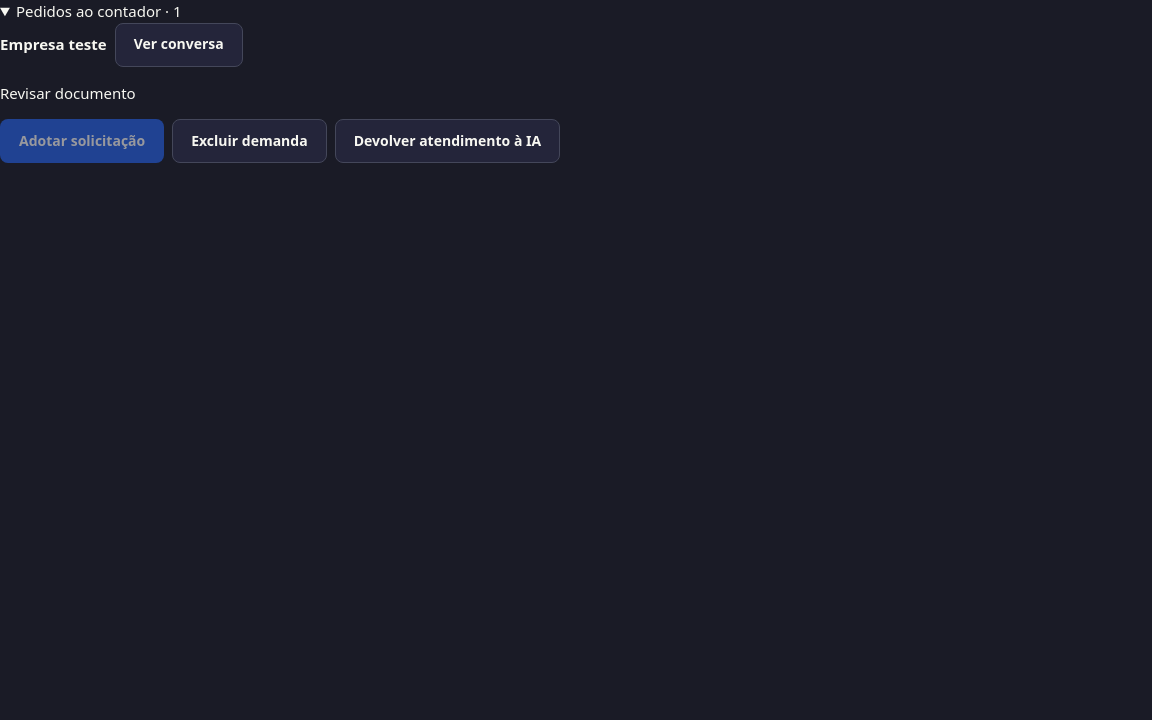
Test: falha na exclusão mantém confirmação e demanda para conferência
The width and height of the screenshot is (1152, 720).
Click the button "Excluir demanda" at (249, 141), box [172,119,327,163]
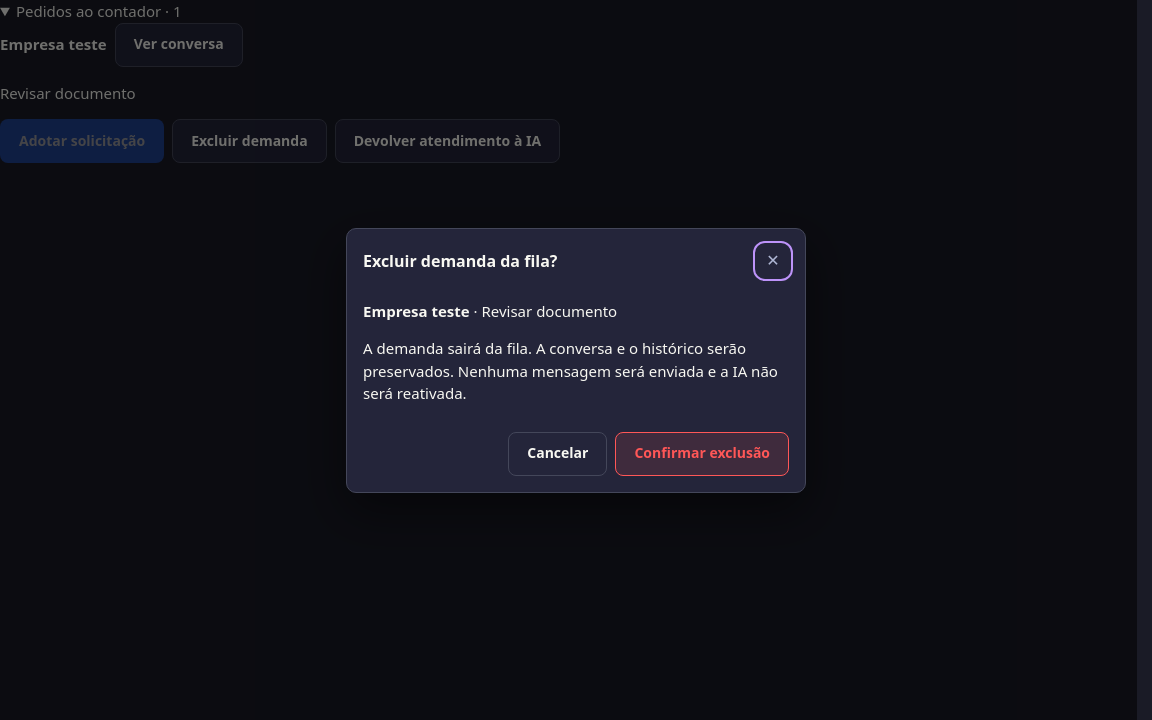
Click the button "Confirmar exclusão" at (702, 454), box [615,432,789,476]
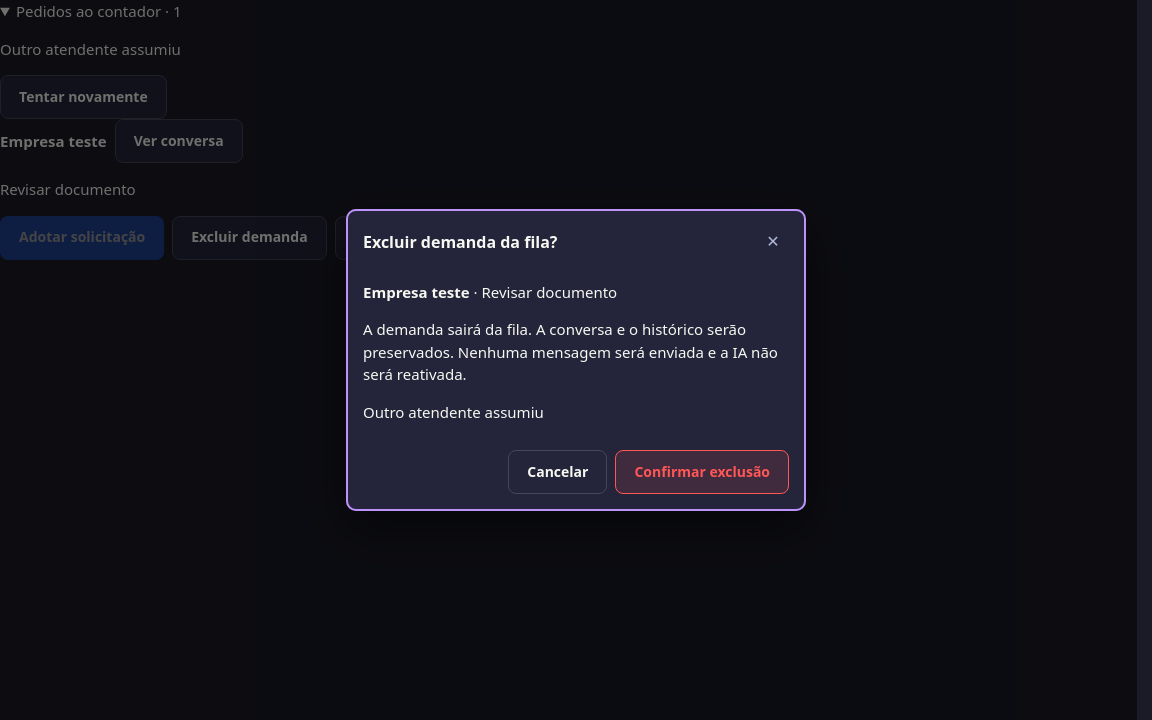
Expected: the heading "Pedidos ao contador · 1" is shown, [16,1,182,21]
Result: the dialog shows "Outro atendente assumiu" at [363,402,544,422]
